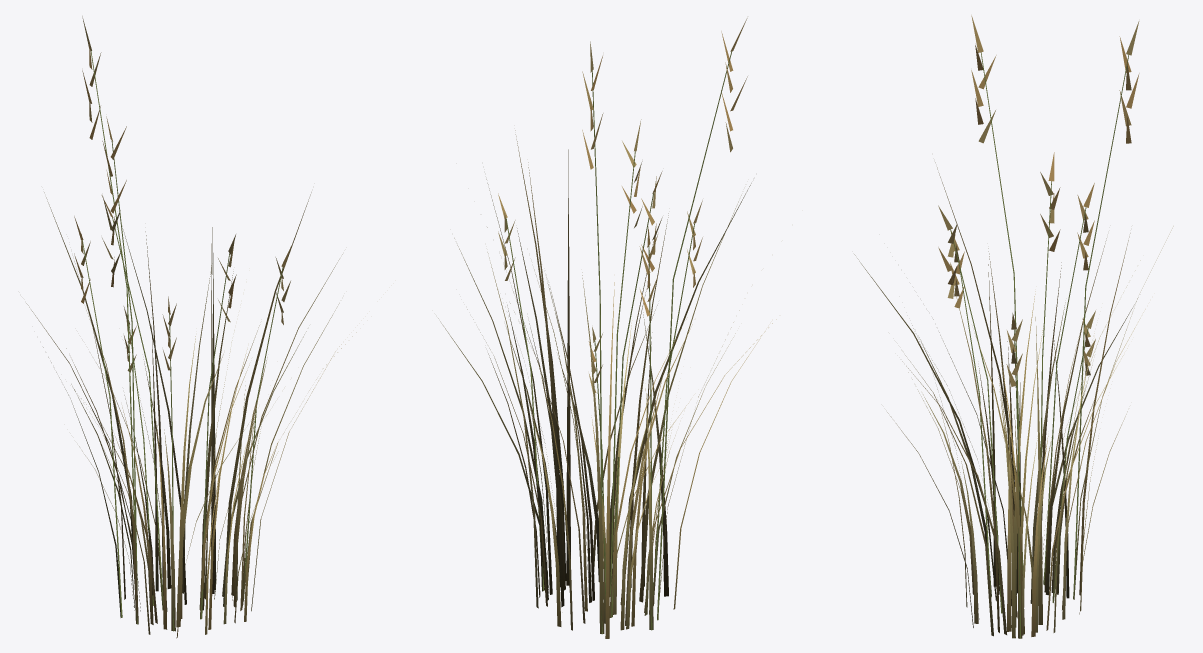
The model's file is grass-dry-a.lod0.glb.
The picture shows the model from 3 angles, left to right: view 1: azimuth 30°, elevation 25°; view 2: azimuth 150°, elevation 25°; view 3: azimuth 270°, elevation 25°; orthographic projection. The views are drawn at different scales.
Parts seen in each view (by area): view 1: grass-dry-a.lod0; view 2: grass-dry-a.lod0; view 3: grass-dry-a.lod0.
Boxes of the visible parts, x1,y1,x2,y2 form: grass-dry-a.lod0: [26, 16, 356, 638]; grass-dry-a.lod0: [438, 18, 776, 638]; grass-dry-a.lod0: [854, 15, 1173, 638].
Size of the model in its own units: 0.7255 by 1.31 by 0.7059.
